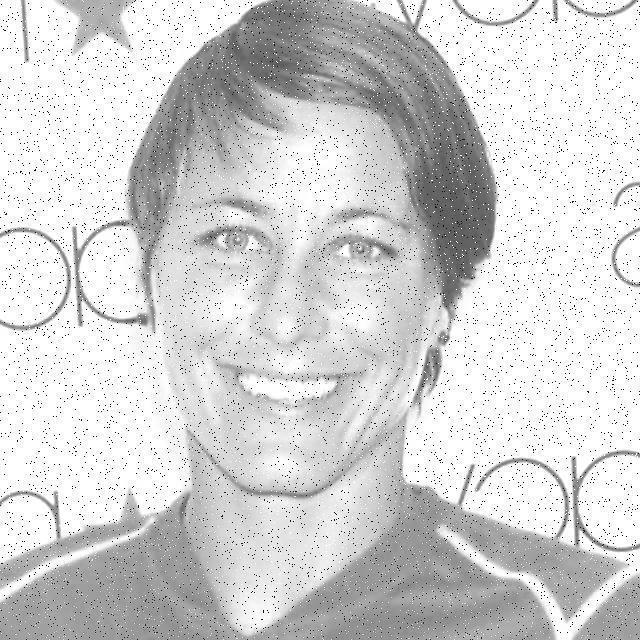real: (152, 118, 438, 498)
